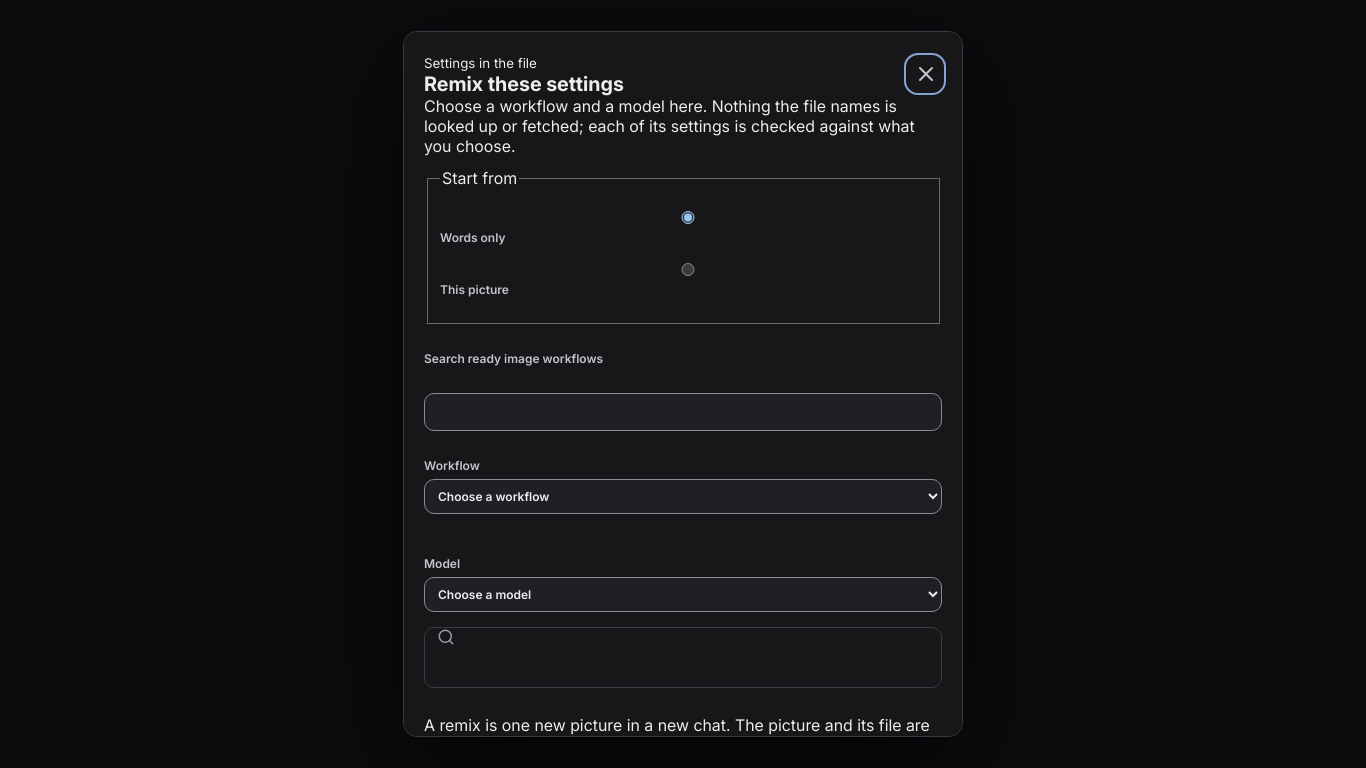
remix preview › says why a choice cannot be used
This screenshot has width=1366, height=768.
Select "Cups - Cup workflow · v1" in the dropdown labelled "Workflow" at (683, 497), box x1=424 y1=479 x2=942 y2=514
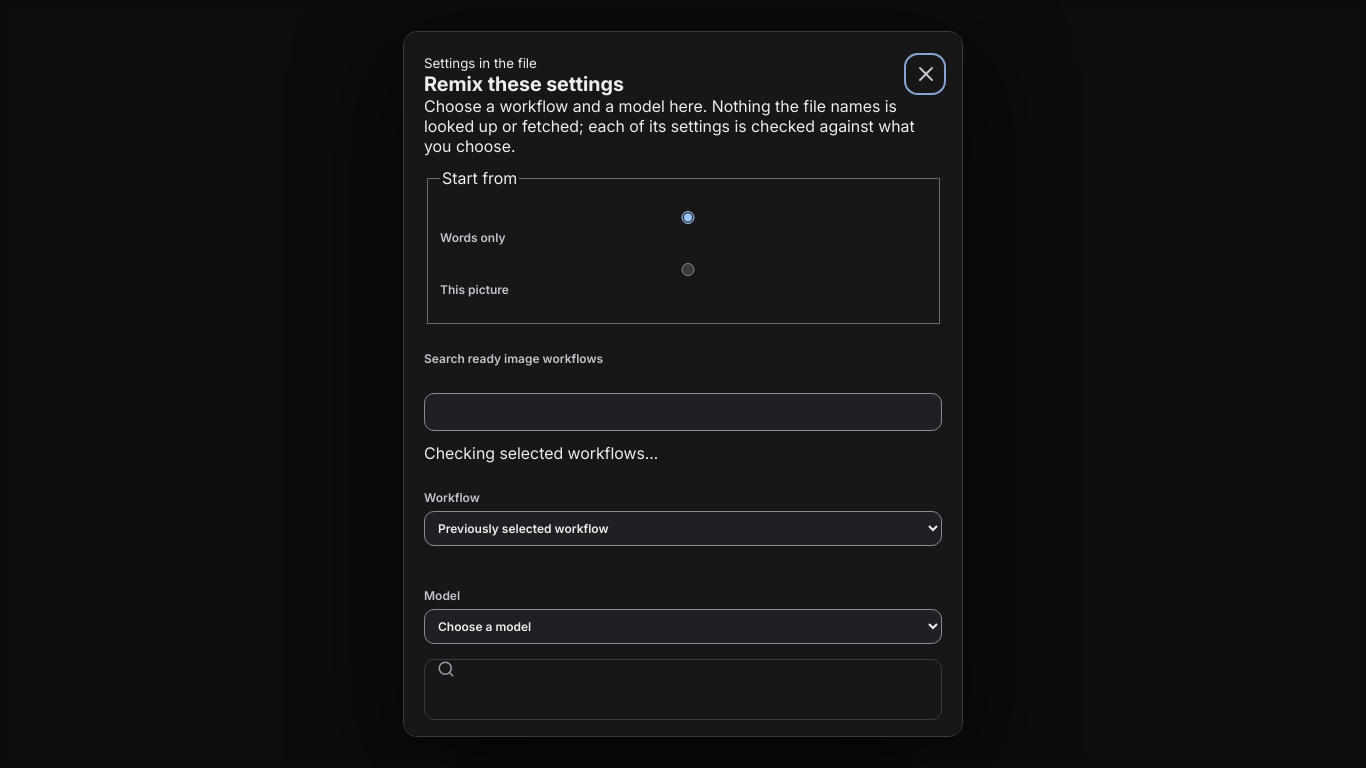
Select "Cup model" in the dropdown labelled "Model" at (683, 627), box x1=424 y1=609 x2=942 y2=644
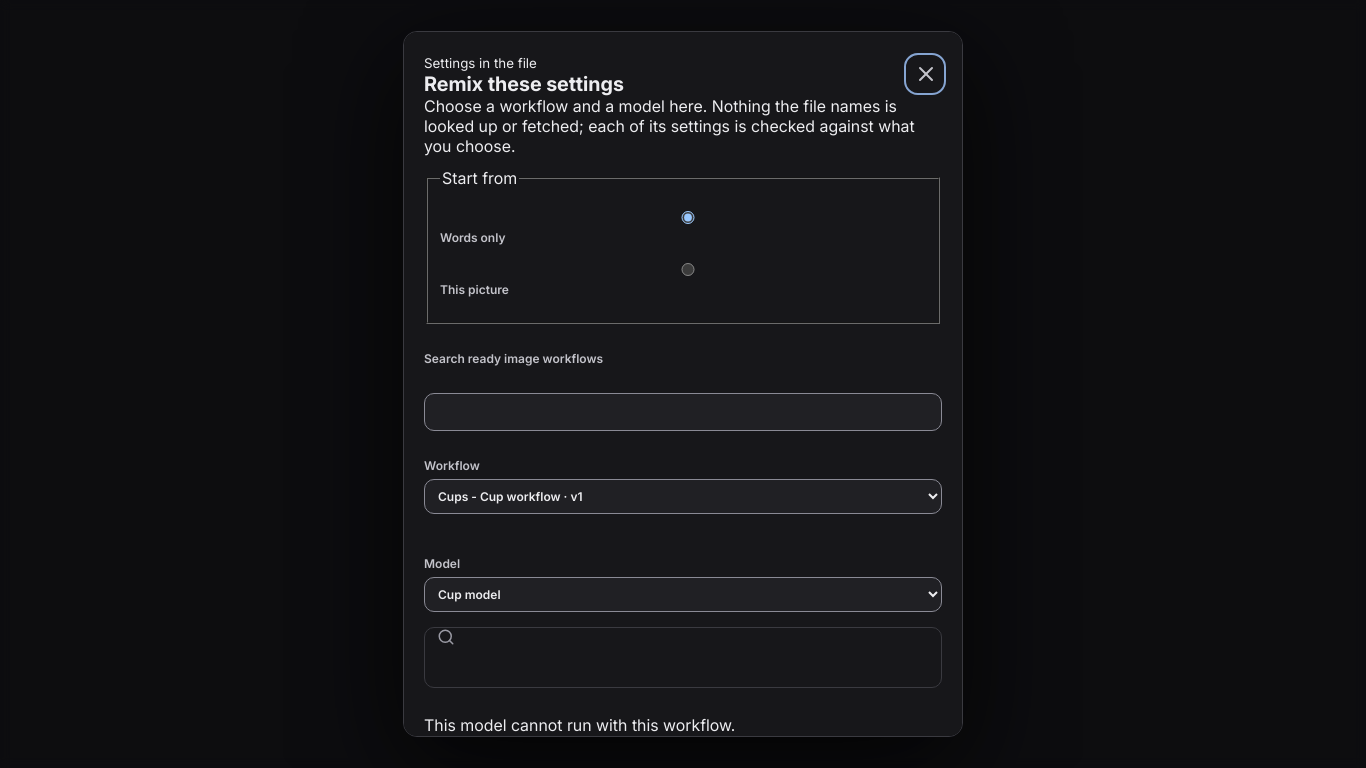
Now the message reads "This model cannot run with this workflow.", box x1=424 y1=715 x2=735 y2=735
